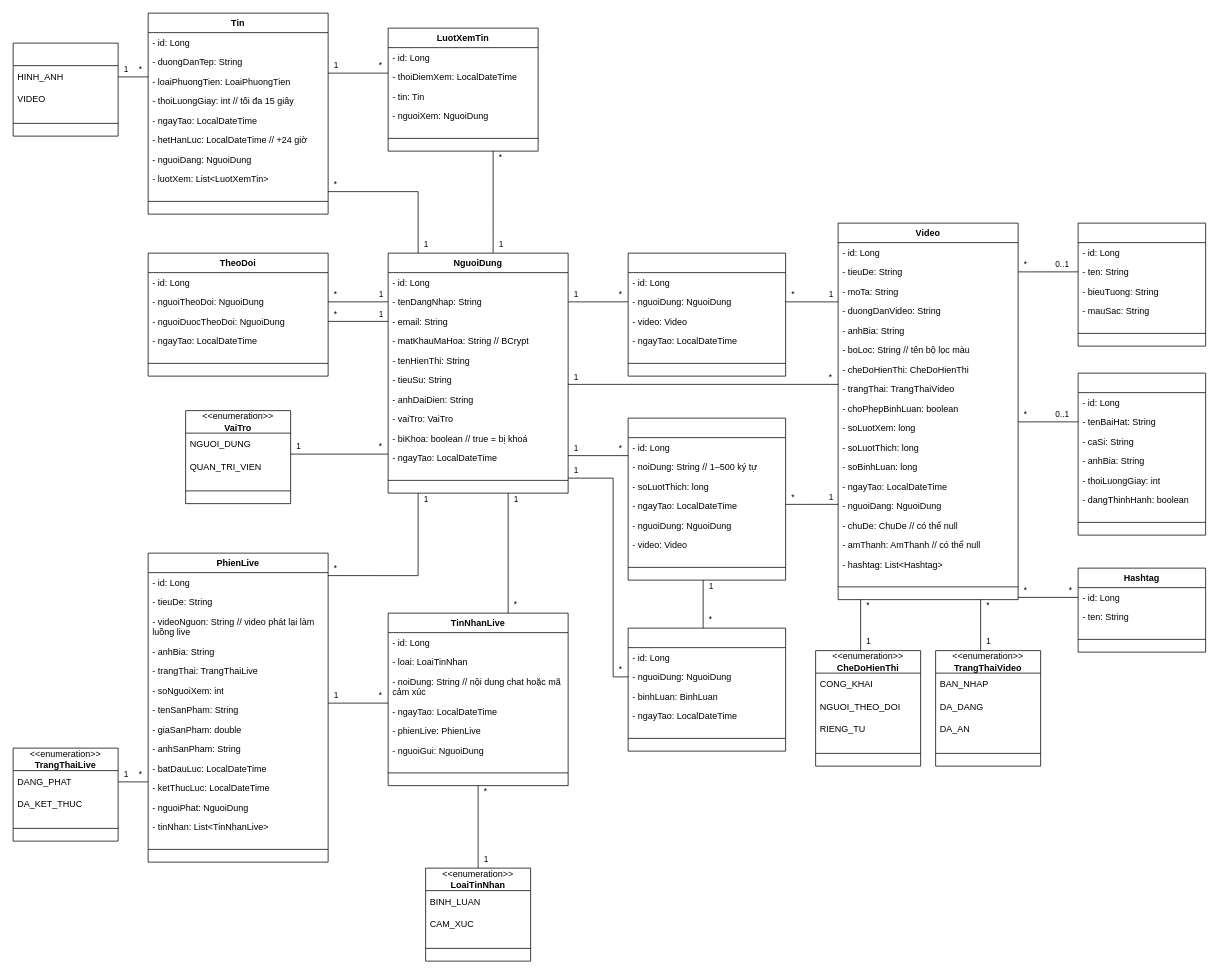
Some shapes in this 1219 by 974 pixel diagram are drawn without their labels. Here are the shapes that lost their labels. From the top down, the box of each, then its label:
(12, 42, 118, 136): <<enumeration>> LoaiPhuongTien
(1077, 222, 1206, 346): ChuDe
(627, 252, 786, 376): LuotThichVideo
(1077, 372, 1206, 535): AmThanh
(627, 417, 786, 580): BinhLuan
(627, 627, 786, 751): LuotThichBinhLuan
